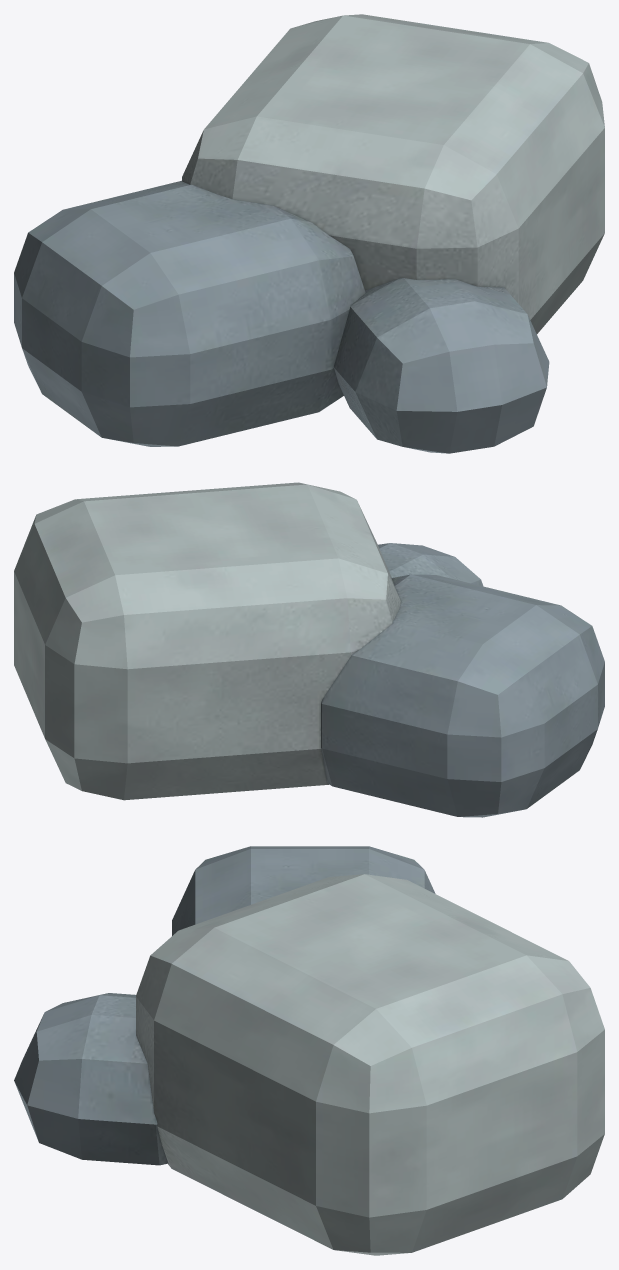
The model's file is stone.glb.
3 views of the same model, one above another, from view 1: azimuth 30°, elevation 25°; view 2: azimuth 150°, elevation 25°; view 3: azimuth 270°, elevation 25° (orthographic). The views are drawn at different scales.
Visible parts, largest first — view 1: RoundedStone; view 2: RoundedStone; view 3: RoundedStone.
Part boxes in pixels (left/top/right/bottom): RoundedStone: left=14, top=14, right=604, bottom=453; RoundedStone: left=14, top=482, right=604, bottom=817; RoundedStone: left=14, top=846, right=604, bottom=1255.
Bounding box in the file's own units: 1.1 × 0.45 × 0.9763.
Materials: 1 (1 with a texture image).
